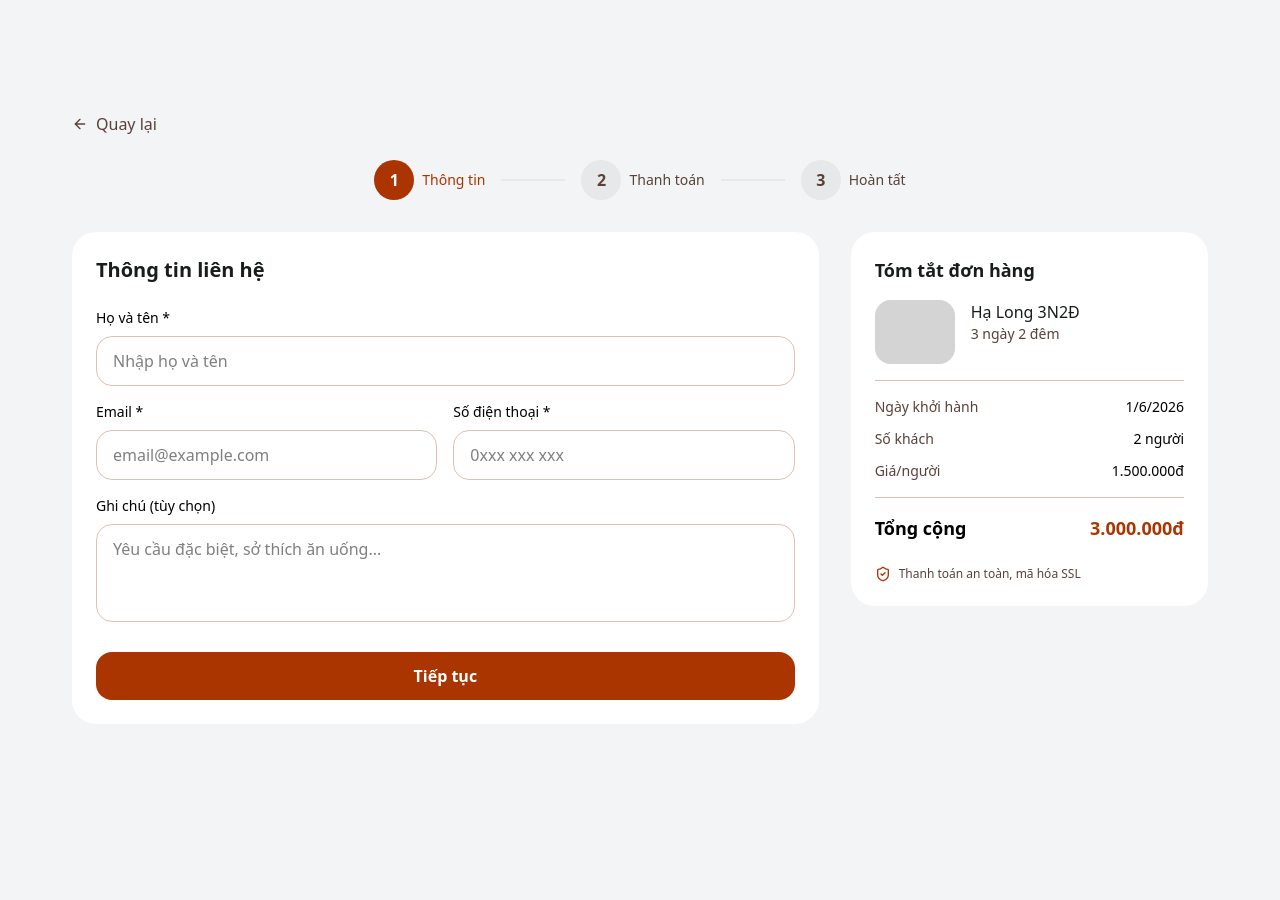
Scenario: CheckoutPage › blocks submission when required contact fields are empty (modal)
The width and height of the screenshot is (1280, 900).
Step 1. Click the button "Tiếp tục" → [445, 676], box [96,652,795,700]
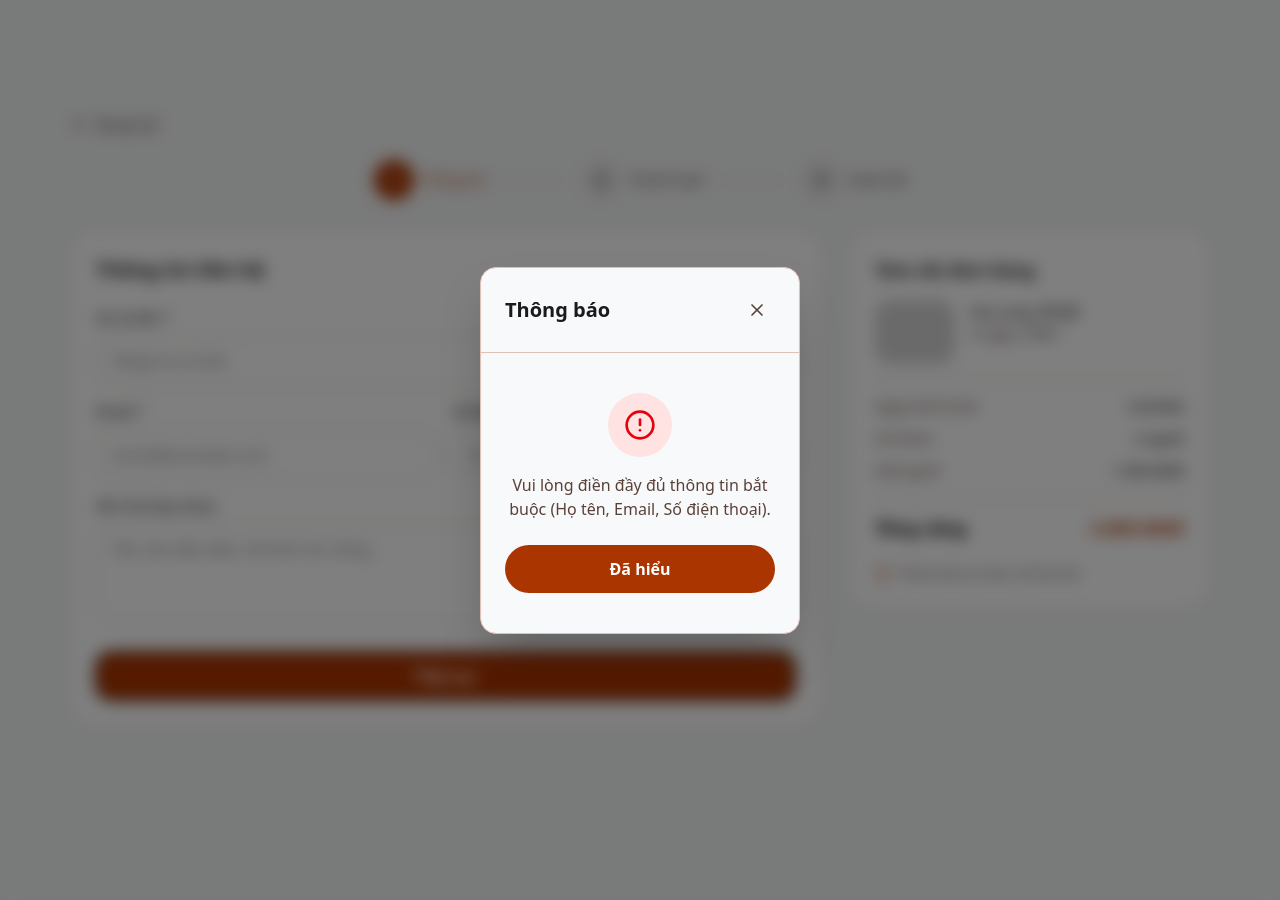
Expected: the text "điền đầy đủ thông tin" is shown, [509,474,771,520]
